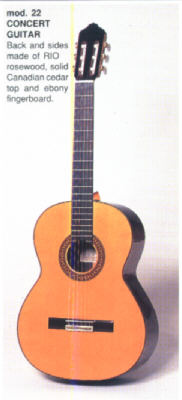guitar: (16, 23, 161, 383)
